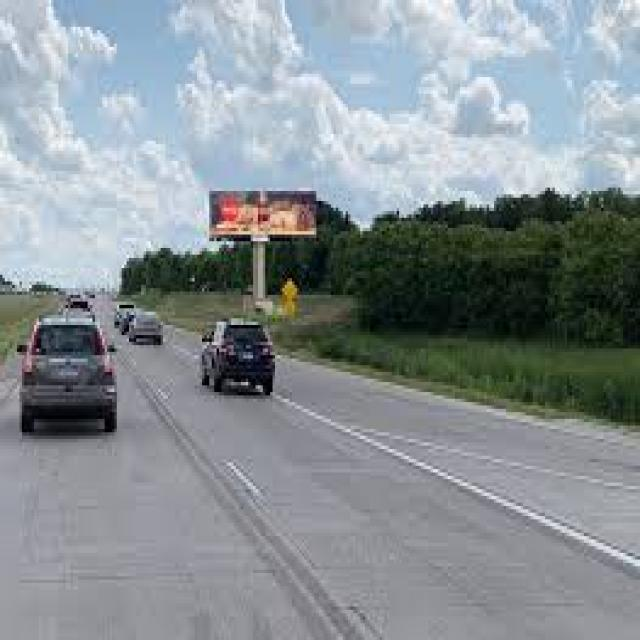Billboard_RHS: (206, 184, 324, 252)
Roadcorner: (314, 362, 638, 479)
Roadlane: (279, 382, 634, 601), (120, 348, 387, 637)
